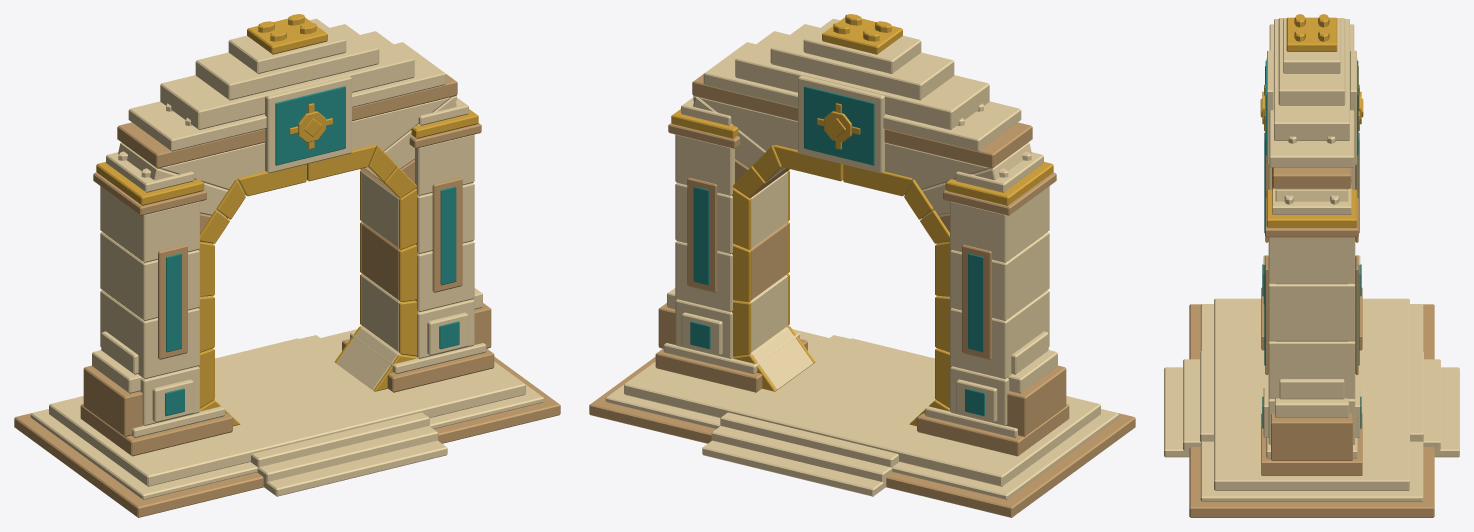
Rendered from desert-sun-gate.glb.
The picture shows the model from 3 angles, left to right: view 1: azimuth 30°, elevation 25°; view 2: azimuth 150°, elevation 25°; view 3: azimuth 270°, elevation 25°; orthographic projection.
Parts seen in each view (by area): view 1: Desert_Sun_Gate; view 2: Desert_Sun_Gate; view 3: Desert_Sun_Gate.
Part boxes in pixels (left/top/right/bottom): Desert_Sun_Gate: left=14, top=14, right=560, bottom=517; Desert_Sun_Gate: left=589, top=14, right=1135, bottom=517; Desert_Sun_Gate: left=1164, top=14, right=1459, bottom=517.
Bounding box in the file's own units: 12.8 × 11.47 × 7.85.
